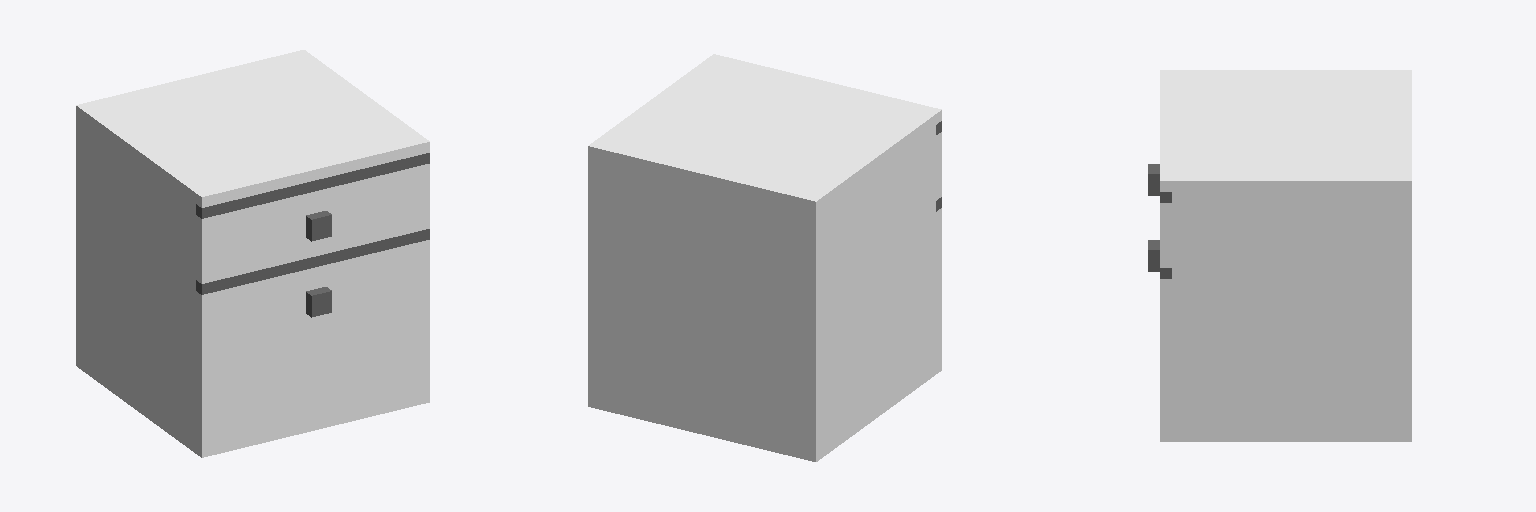
3 renders of one model, left to right at view 1: azimuth 30°, elevation 25°; view 2: azimuth 150°, elevation 25°; view 3: azimuth 270°, elevation 25°, orthographic.
Parts seen in each view (by area): view 1: object 1; view 2: object 1; view 3: object 1.
Part boxes in pixels (bbox=[...]): object 1: bbox=[76, 50, 429, 457]; object 1: bbox=[588, 54, 941, 461]; object 1: bbox=[1148, 70, 1411, 441].
Bounding box in the file's own units: 2.2 × 2.4 × 2.2.
1 materials, 1 textured.